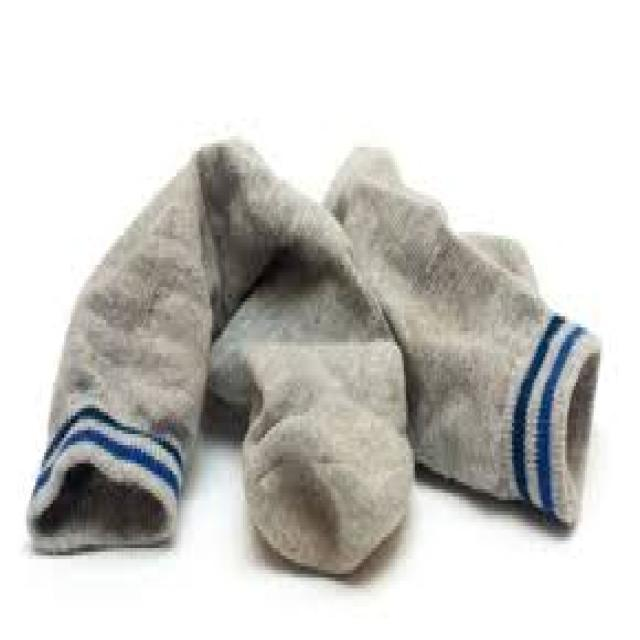sock: (24, 132, 400, 552), (320, 143, 600, 526)
